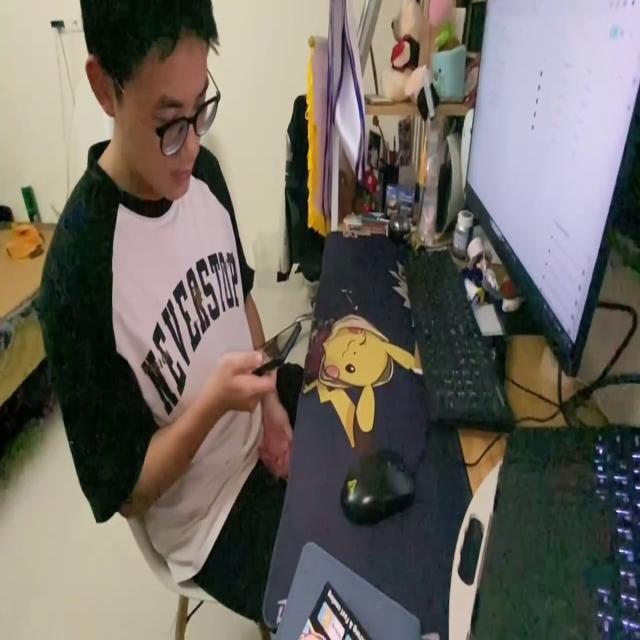laptop: (463, 0, 637, 389), (469, 412, 640, 640)
phone: (251, 313, 307, 382)
student: (39, 0, 302, 602)
